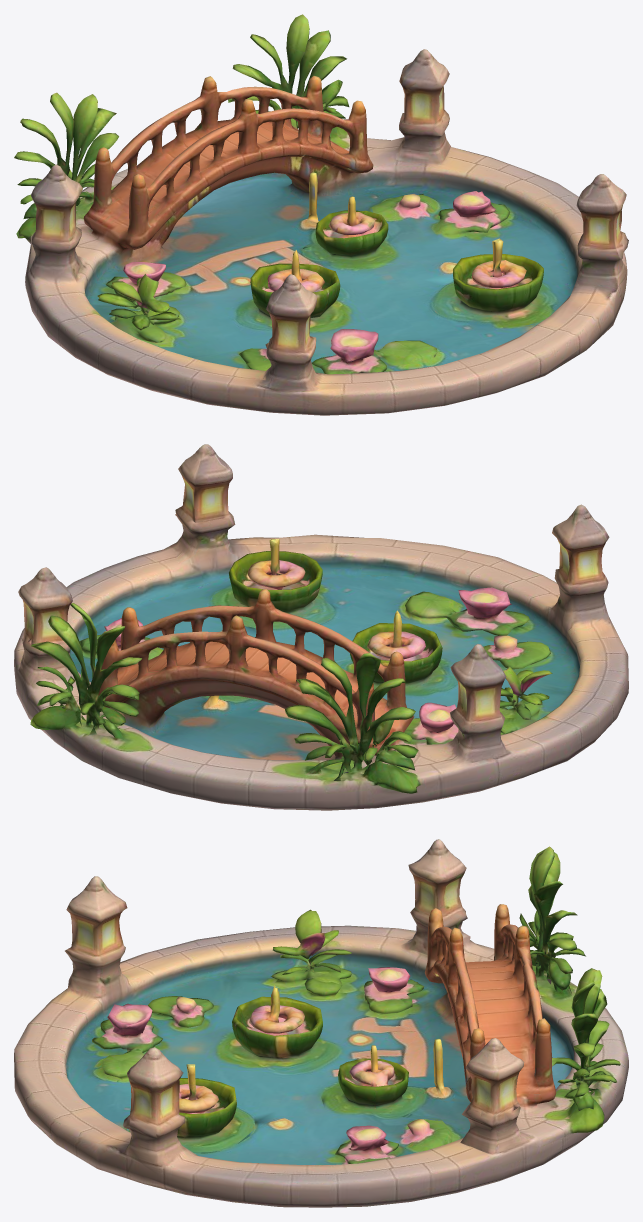
Rendered from 18-krathong-pond.glb.
3 renders of one model, top to bottom at view 1: azimuth 30°, elevation 25°; view 2: azimuth 150°, elevation 25°; view 3: azimuth 270°, elevation 25°, orthographic. The views are drawn at different scales.
Parts seen in each view (by area): view 1: tripo_node_71e42018-4953-4881-91b1-5f461ef7e3ea; view 2: tripo_node_71e42018-4953-4881-91b1-5f461ef7e3ea; view 3: tripo_node_71e42018-4953-4881-91b1-5f461ef7e3ea.
Boxes of the visible parts, bbox=[...] form: tripo_node_71e42018-4953-4881-91b1-5f461ef7e3ea: bbox=[14, 14, 628, 415]; tripo_node_71e42018-4953-4881-91b1-5f461ef7e3ea: bbox=[14, 444, 628, 810]; tripo_node_71e42018-4953-4881-91b1-5f461ef7e3ea: bbox=[14, 839, 628, 1207].
Bounding box in the file's own units: 0.9773 × 0.2759 × 0.9775.
Materials: 1 (1 with a texture image).
